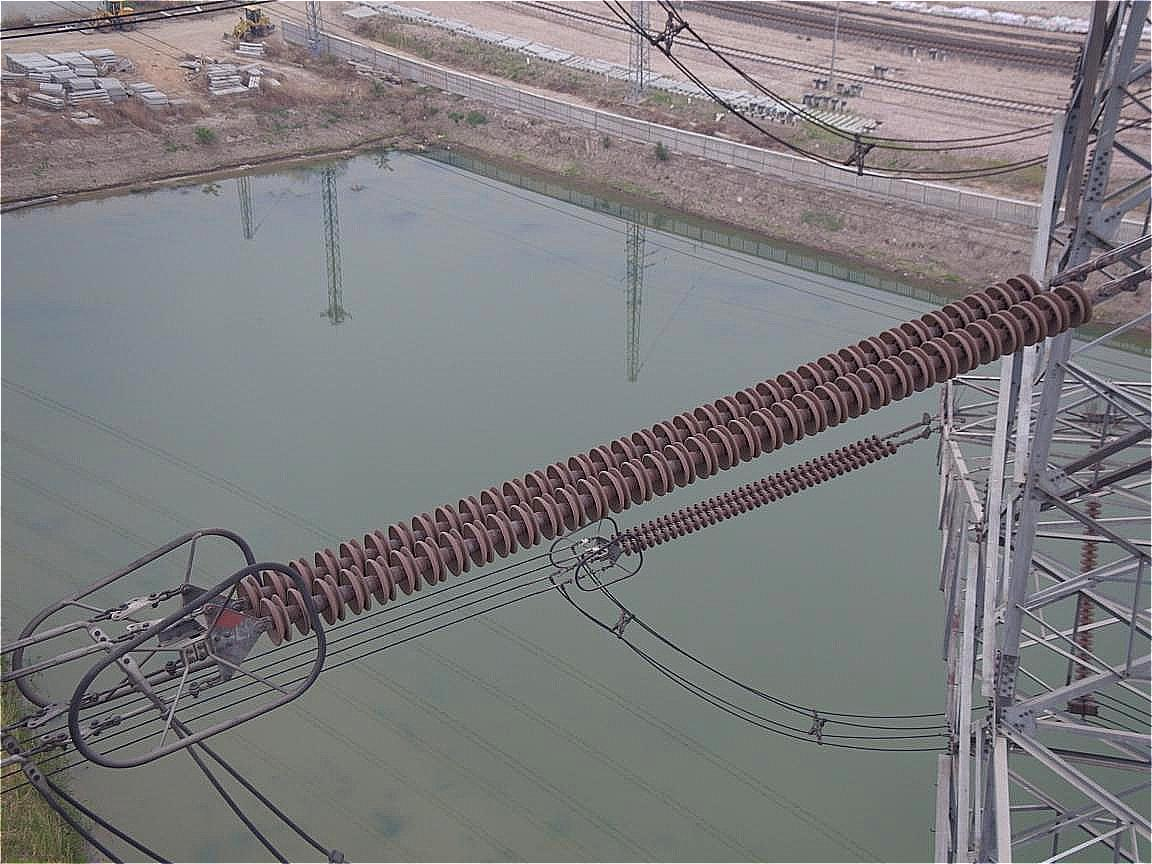insultor1: (587, 407, 912, 580)
insultor2: (220, 274, 1110, 655)
